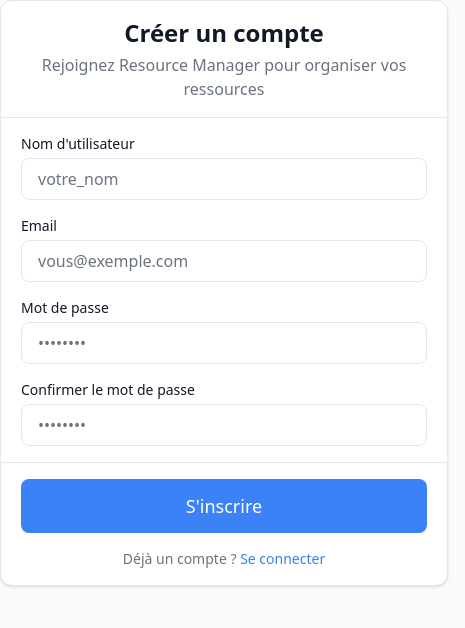
Scenario: RegisterForm › shows error when username is too short
Type "ab" into the field labelled "Nom d'utilisateur" at (224, 179), box 21,158 -> 427,200
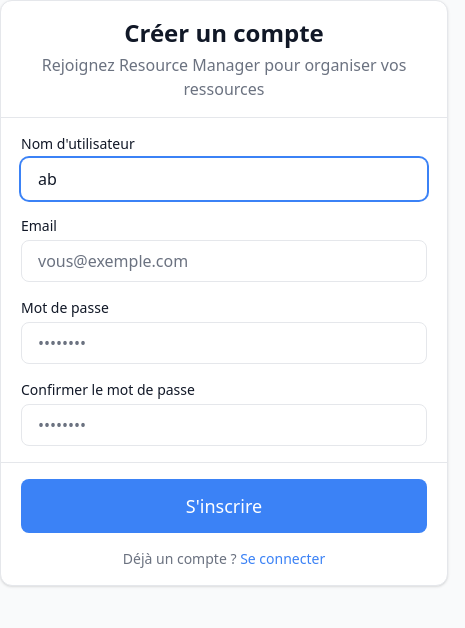
Type "test@example.com" into the field labelled "Email" at (224, 261), box 21,240 -> 427,282
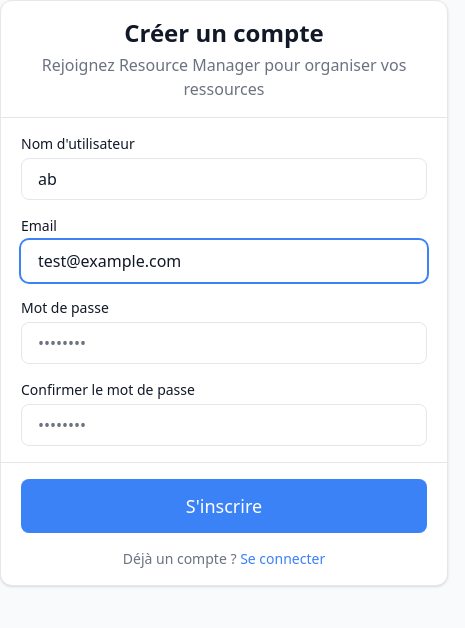
Type "password123" into the password field labelled "Mot de passe" at (224, 343), box 21,322 -> 427,364
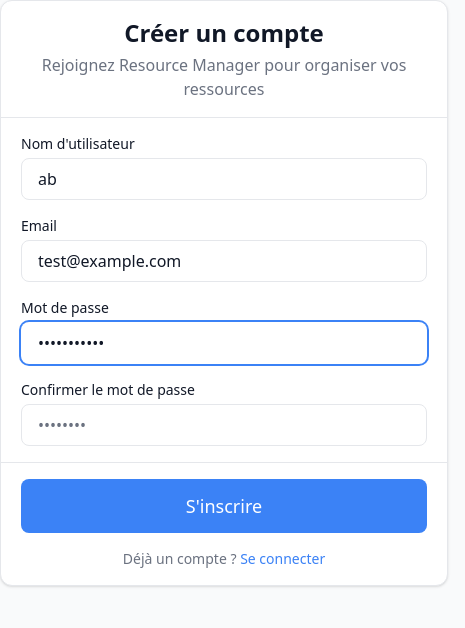
Type "password123" into the password field labelled "Confirmer le mot de passe" at (224, 425), box 21,404 -> 427,446
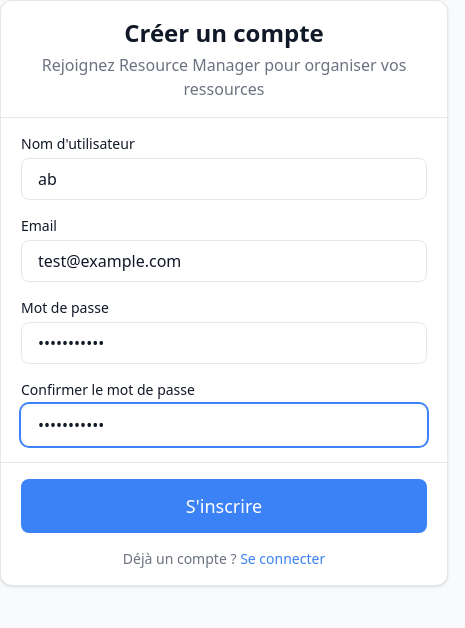
Submit the form "S'inscrire"
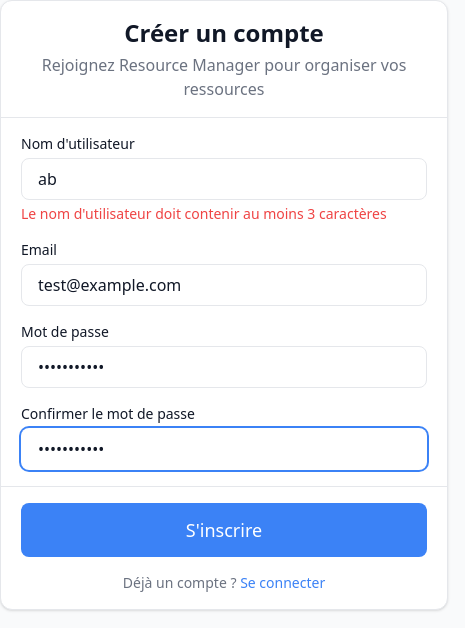
Check: the text "Le nom d'utilisateur doit contenir au moins 3 caractères" is shown, box 21,204 -> 427,224
